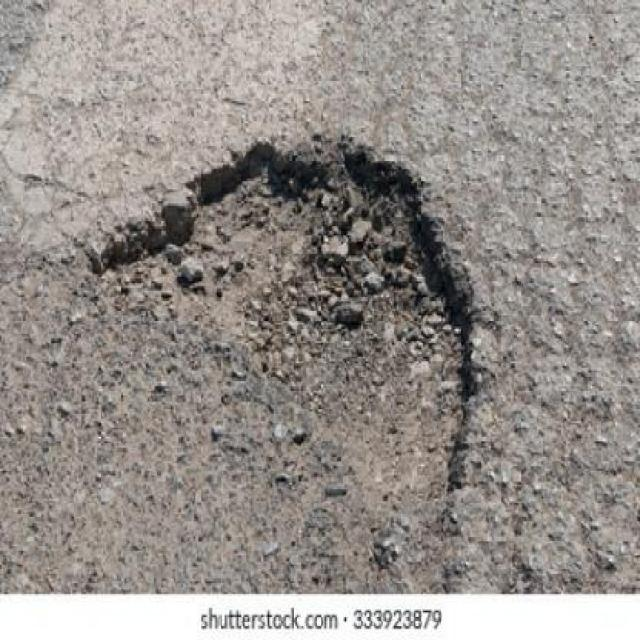Pothole: (95, 132, 479, 508)
